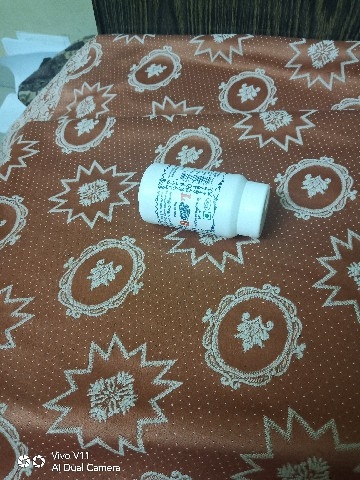lgasafoetidapowder large: (110, 144, 302, 266)
